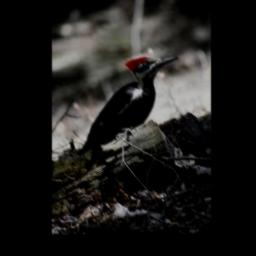Woodpecker: (77, 54, 178, 168)
